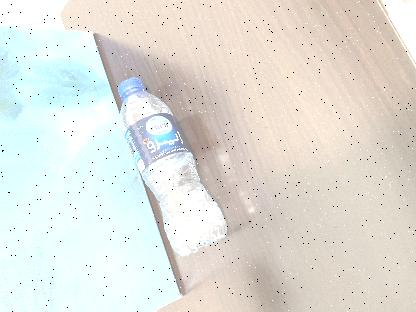Plastic Bottle: (118, 77, 227, 256)
